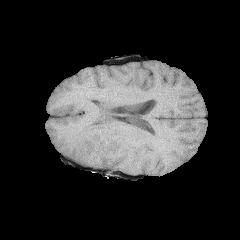glioma: (68, 104, 128, 169)
